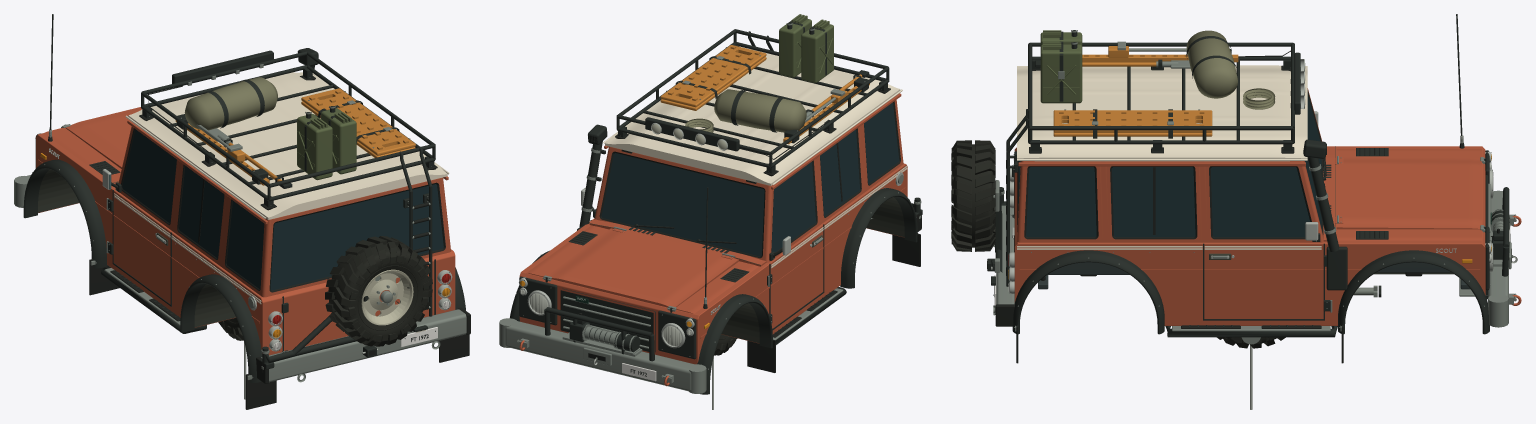
Rendered from vehicle_scout.glb.
The picture shows the model from 3 angles, left to right: view 1: azimuth 30°, elevation 25°; view 2: azimuth 150°, elevation 25°; view 3: azimuth 270°, elevation 25°; orthographic projection. The views are drawn at different scales.
Parts seen in each view (by area): view 1: Body; view 2: Body; view 3: Body.
Boxes of the visible parts, <box> form: Body: <box>14,14,470,409</box>; Body: <box>499,14,922,394</box>; Body: <box>951,14,1521,363</box>.
Size of what is drawn, in the model's own units: 2.06 by 3.13 by 4.38.
